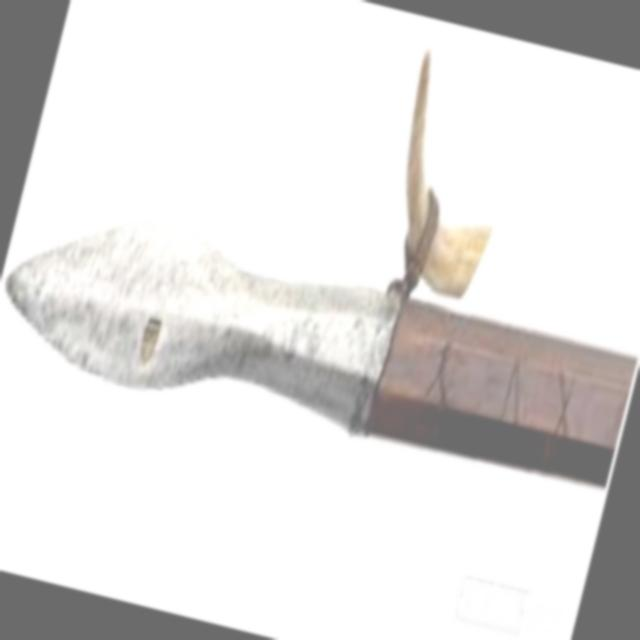spear: (0, 0, 640, 559)
